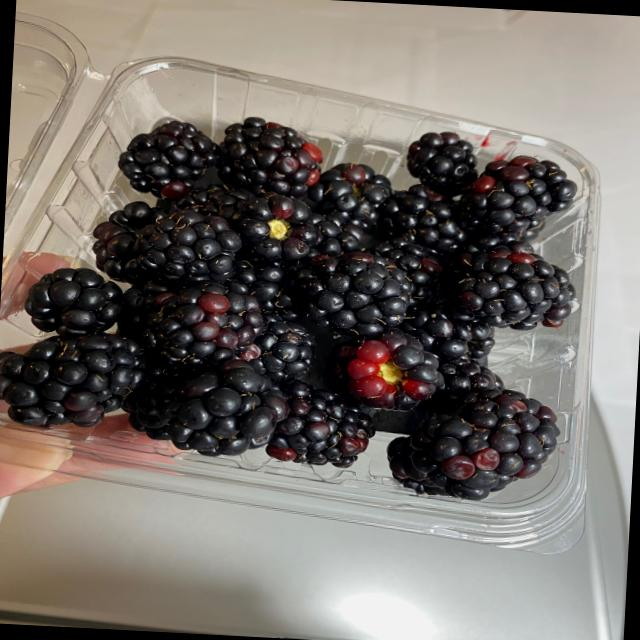blackberries: (38, 86, 586, 490)
